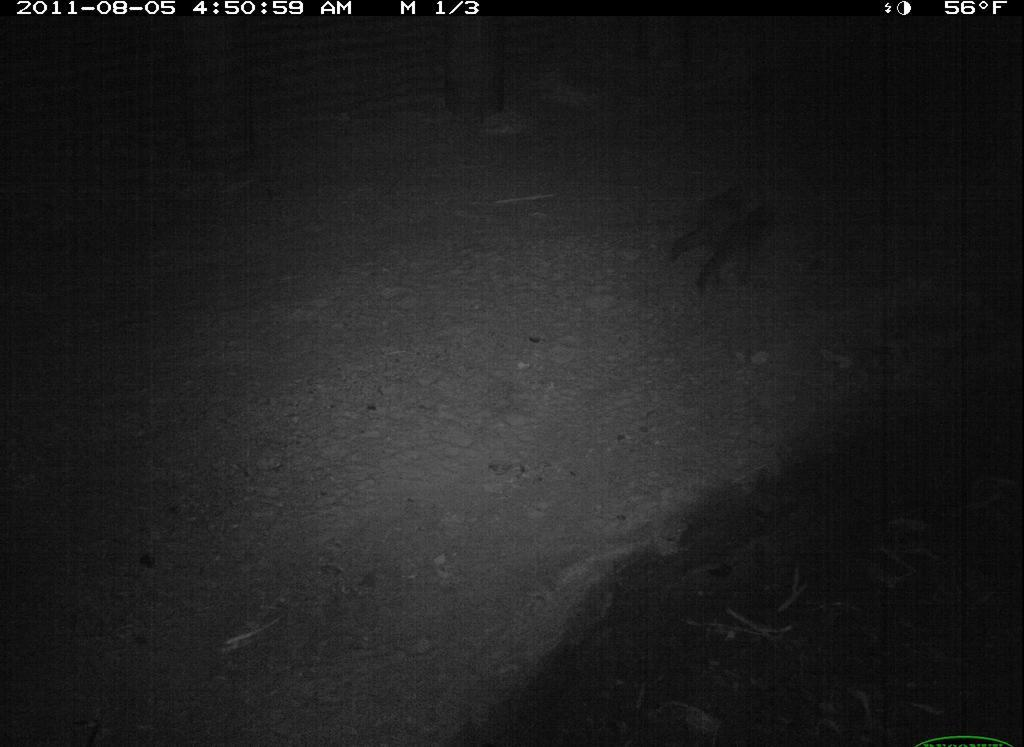raccoon: (664, 191, 793, 294)
